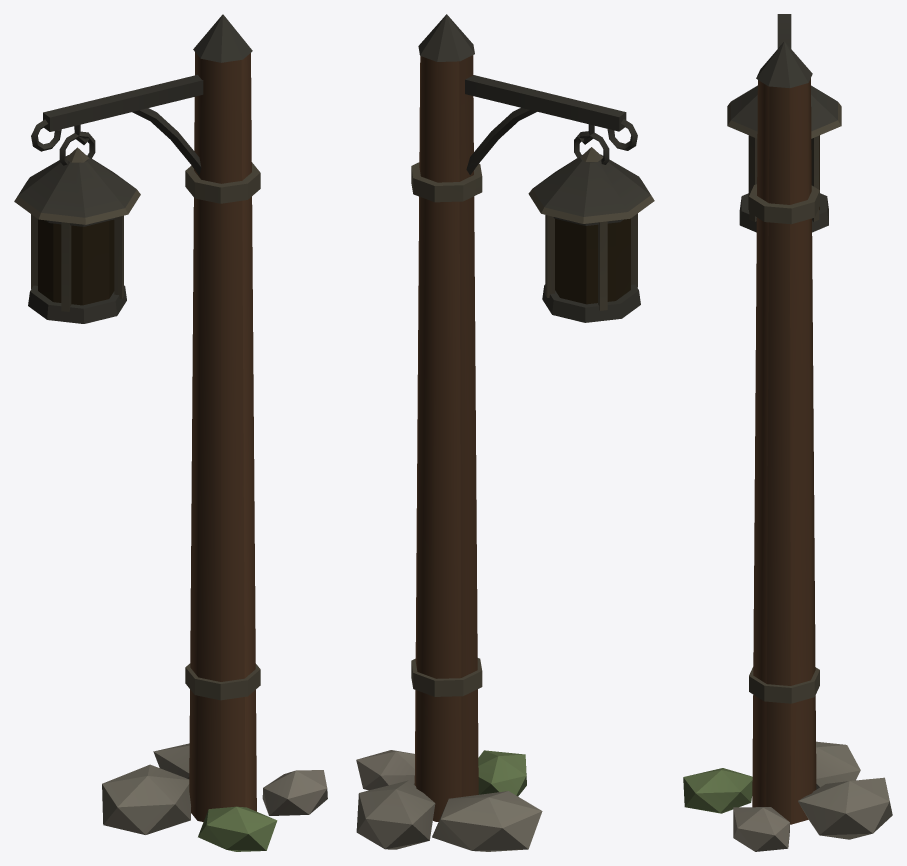
Rendered from lantern.glb.
The picture shows the model from 3 angles, left to right: view 1: azimuth 30°, elevation 25°; view 2: azimuth 150°, elevation 25°; view 3: azimuth 270°, elevation 25°; orthographic projection. The views are drawn at different scales.
Visible parts, largest first — view 1: lantern-post, lantern-body; view 2: lantern-post, lantern-body; view 3: lantern-post, lantern-body.
Part boxes in pixels (x1,y1,x2,y2): lantern-post: (31,14,327,851); lantern-body: (14,131,140,323); lantern-post: (356,14,637,851); lantern-body: (528,131,654,322); lantern-post: (683,14,892,851); lantern-body: (727,85,841,232).
Bounding box in the file's own units: 0.8447 × 2.26 × 0.5428.
